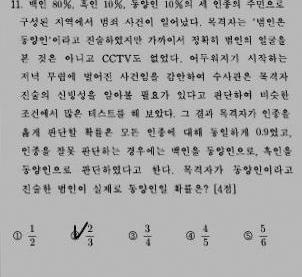choice: (69, 224, 82, 241)
not-choice: (242, 229, 254, 241), (185, 229, 196, 242), (127, 229, 138, 241), (12, 230, 22, 241)
